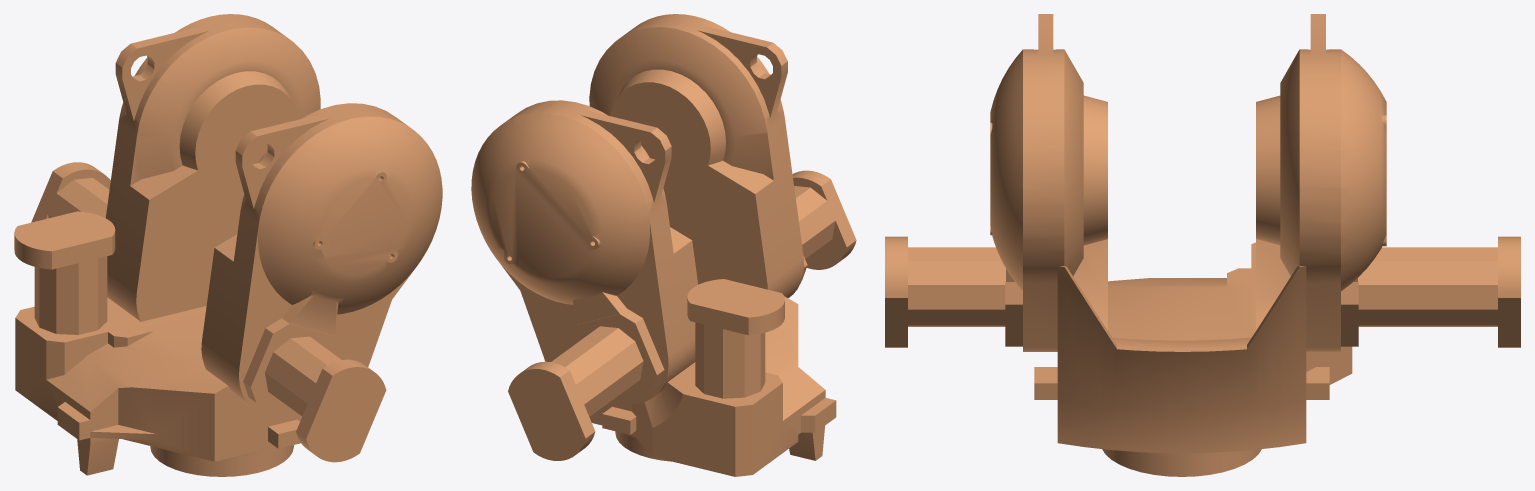
The picture shows the model from 3 angles, left to right: view 1: azimuth 30°, elevation 25°; view 2: azimuth 150°, elevation 25°; view 3: azimuth 270°, elevation 25°; orthographic projection. The views are drawn at different scales.
Visible parts, largest first — view 1: Link_1; view 2: Link_1; view 3: Link_1.
Boxes of the visible parts, x1,y1,x2,y2 form: Link_1: [14, 14, 442, 476]; Link_1: [471, 14, 856, 476]; Link_1: [885, 14, 1520, 476].
Bounding box in the file's own units: 0.5157 × 0.833 × 0.5987.
